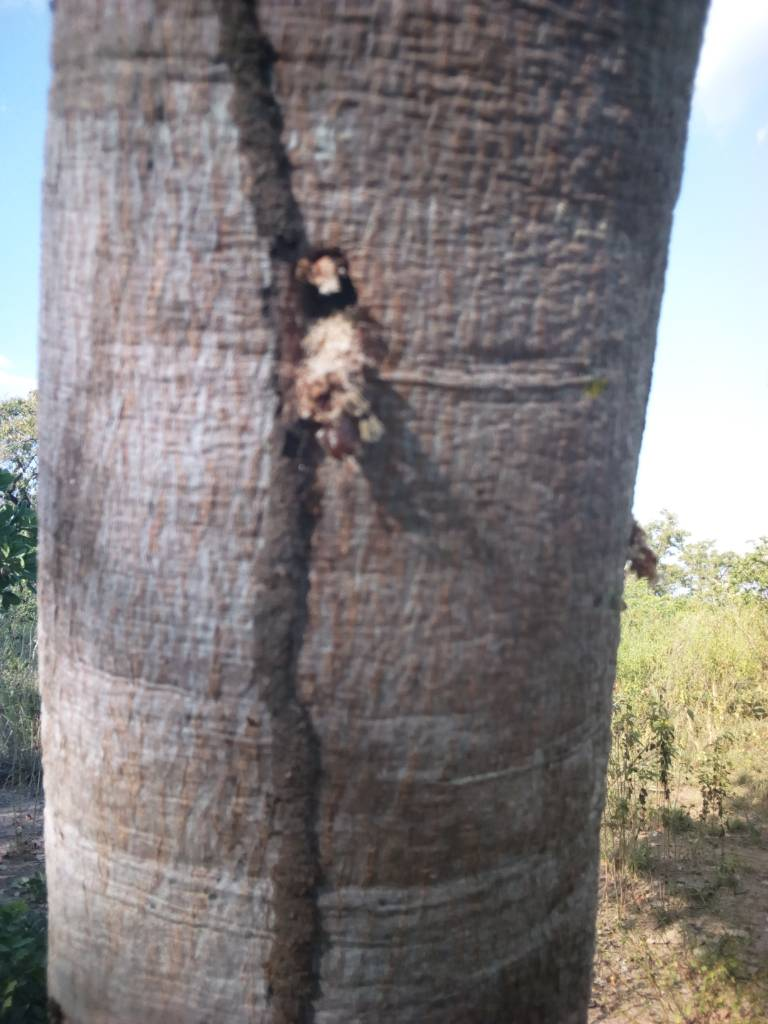Apate terebrans: (236, 210, 422, 361)
